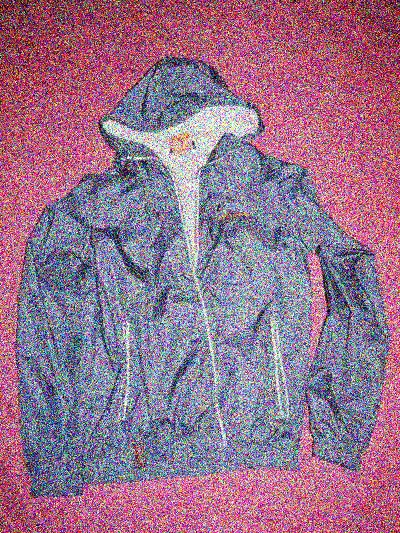Hoodie: (0, 42, 395, 479)
